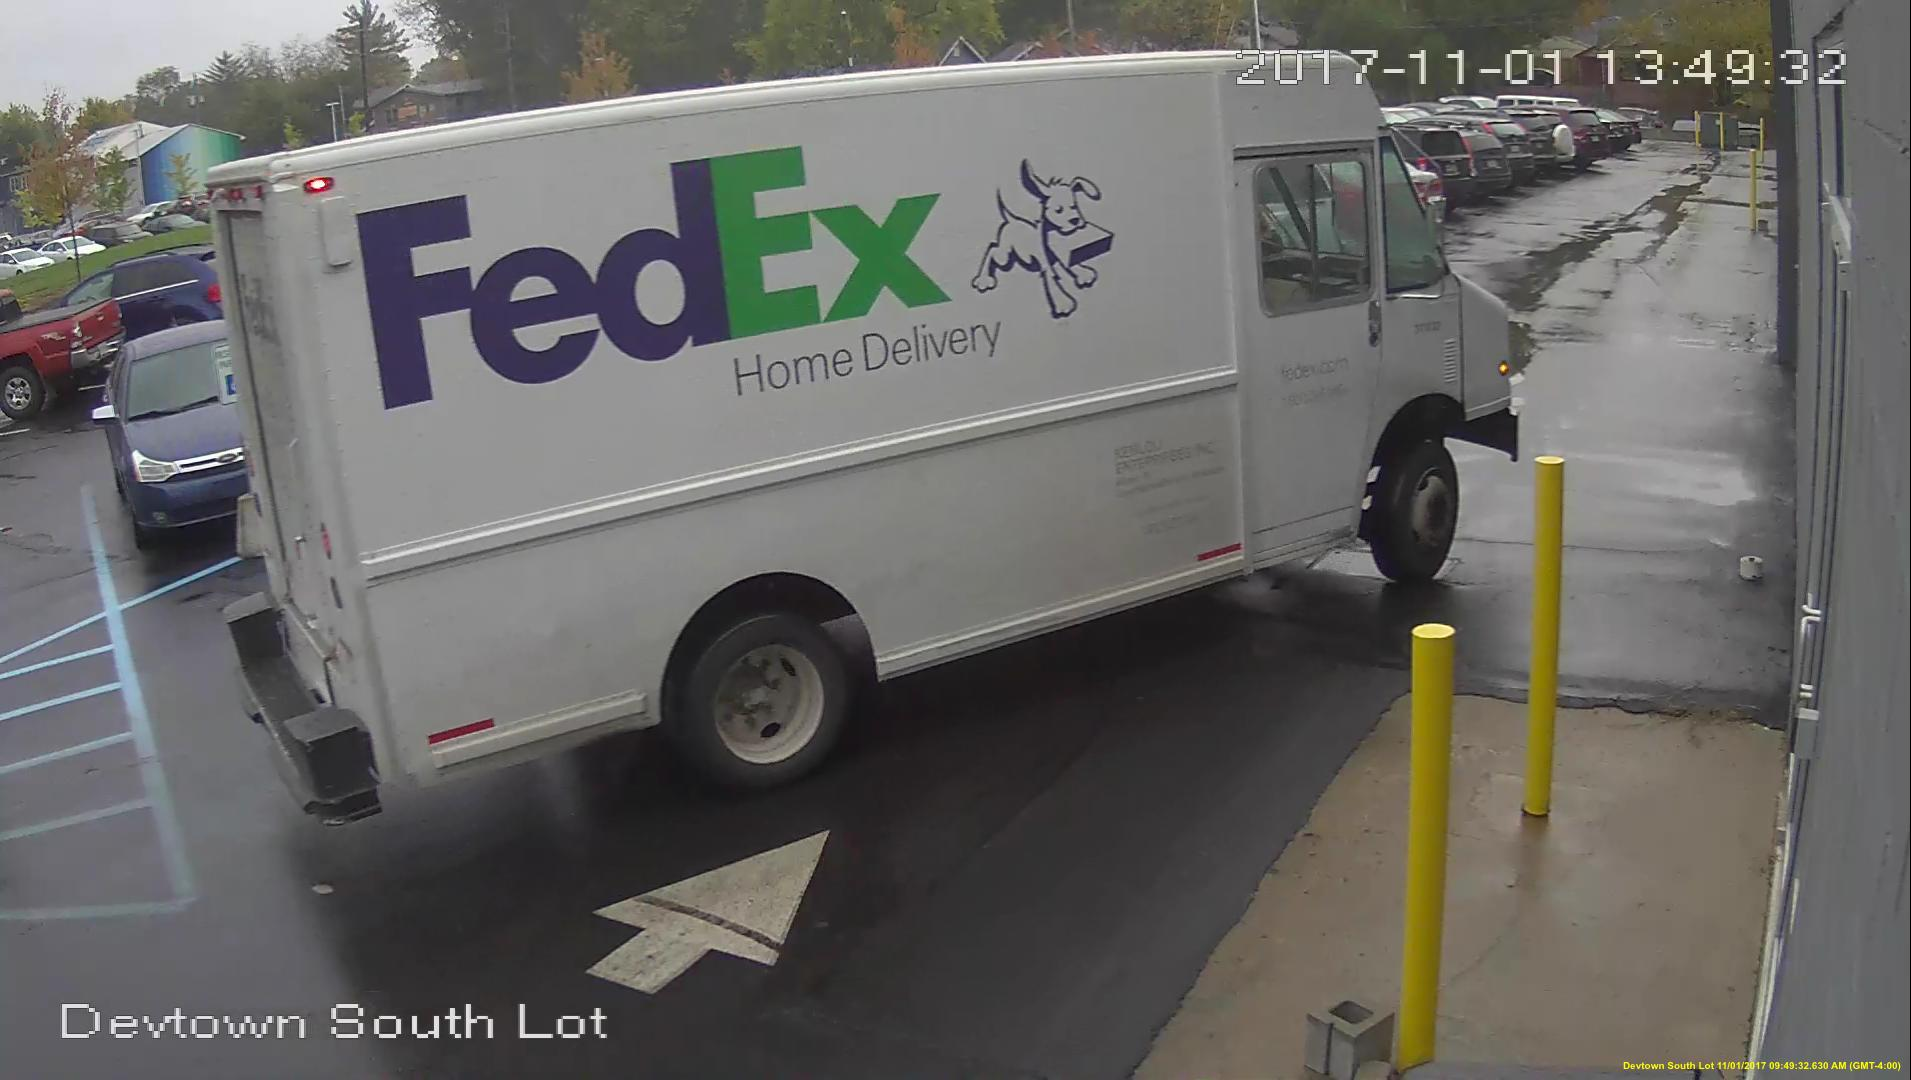fedex_truck: (231, 54, 1515, 824)
